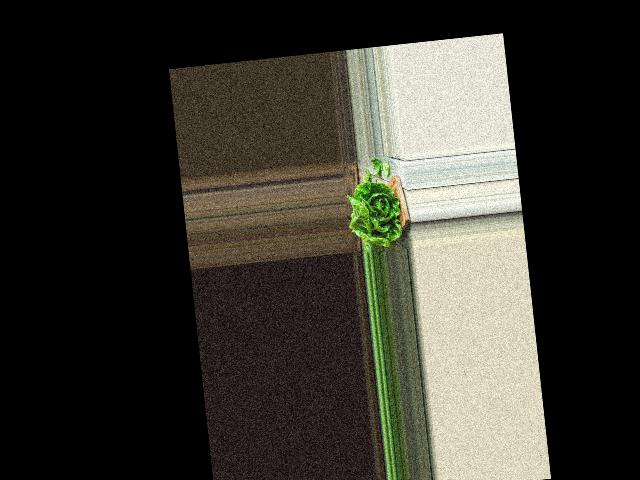lettuce: (346, 181, 407, 252)
